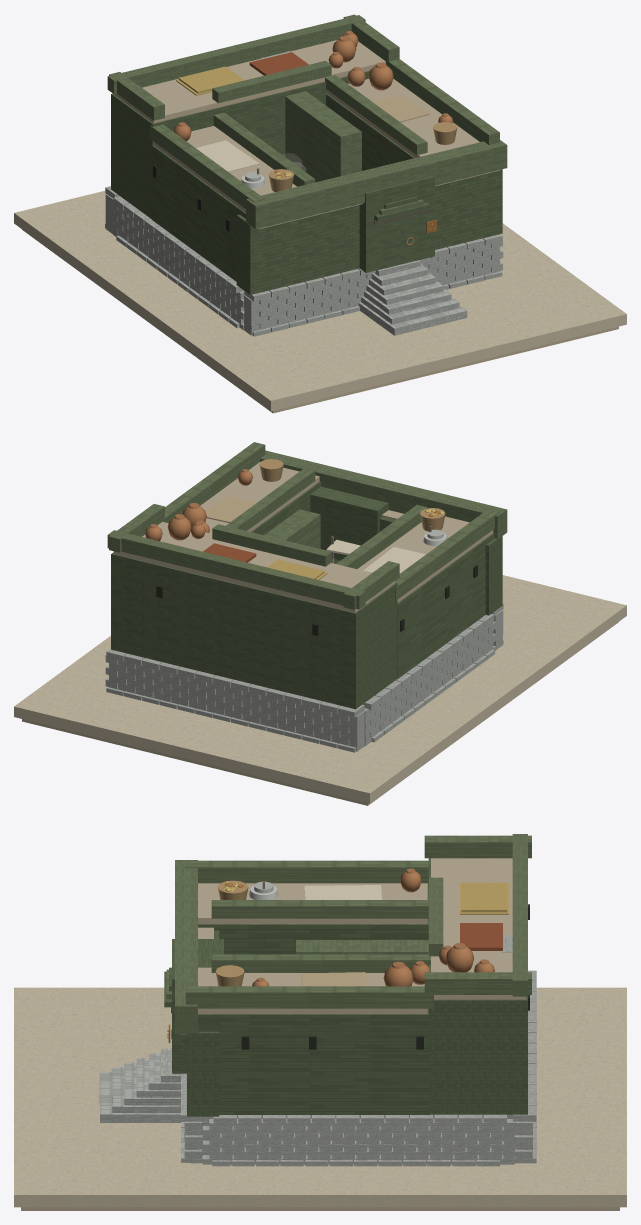
File: civic-bronze-age-walled-houses-built.glb
3 views of the same model, one above another, from view 1: azimuth 30°, elevation 25°; view 2: azimuth 150°, elevation 25°; view 3: azimuth 270°, elevation 25° (orthographic). The views are drawn at different scales.
Size of the model in its own units: 32 by 15.32 by 40.
Materials: 47 (32 with a texture image).
